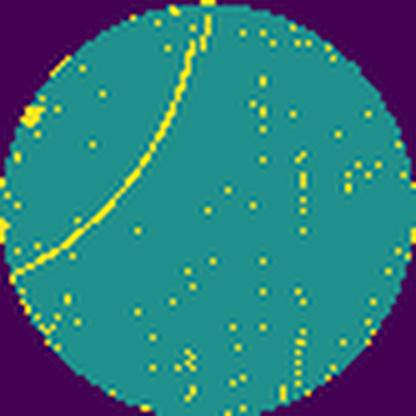Scratch: (11, 12, 216, 278)
